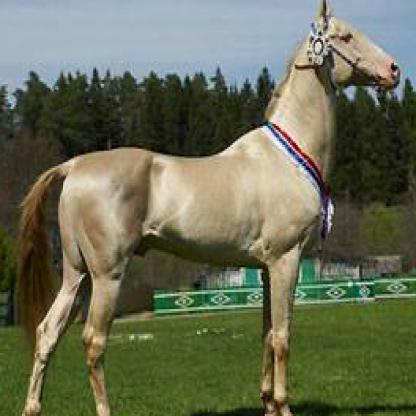horse: (13, 0, 400, 414)
